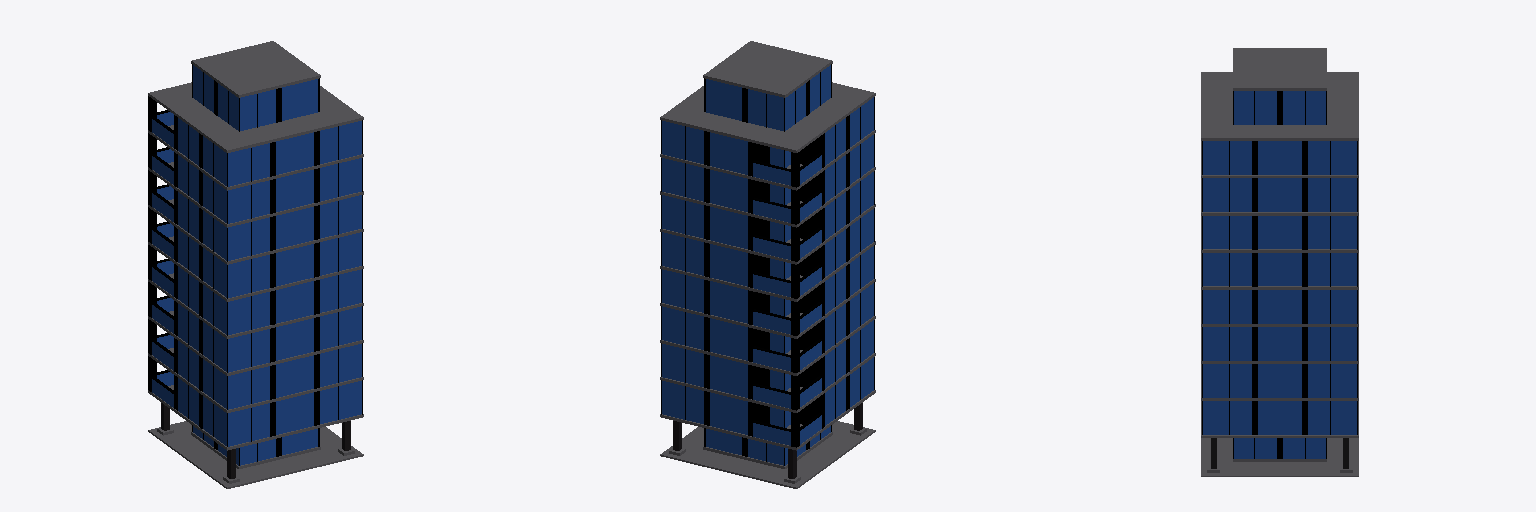
The model's file is Building.obj.
3 views of the same model, side by side, from view 1: azimuth 30°, elevation 25°; view 2: azimuth 150°, elevation 25°; view 3: azimuth 270°, elevation 25° (orthographic).
Visible parts, largest first — view 1: Glass5, Glass6, Glass19, Concrete7, Concrete1, Concrete23, Pillar17, Pillar23, Pillar34, Pillar32, Concrete9, Concrete19 (+6 smaller); view 2: Glass6, Glass5, Glass19, Concrete7, Concrete1, Concrete23, Pillar23, Pillar32, Pillar17, Pillar34, Concrete3, Concrete19 (+15 smaller); view 3: Glass6, Concrete7, Glass19, Concrete1, Concrete23, Pillar32, Pillar34, Concrete9, Concrete4, Concrete8, Concrete2, Concrete3 (+3 smaller).
Boxes of the visible parts, x1,y1,x2,y2 form: Glass5: [178, 118, 269, 446]; Glass6: [276, 121, 361, 434]; Glass19: [193, 65, 317, 465]; Concrete7: [148, 82, 363, 152]; Concrete1: [191, 41, 320, 97]; Concrete23: [148, 421, 363, 488]; Pillar17: [314, 131, 319, 425]; Pillar23: [270, 142, 275, 436]; Pillar34: [199, 133, 202, 428]; Pillar32: [174, 115, 177, 410]; Concrete9: [148, 162, 363, 227]; Concrete19: [148, 385, 363, 450]; Glass6: [662, 121, 747, 434]; Glass5: [825, 97, 873, 425]; Glass19: [706, 65, 830, 465]; Concrete7: [660, 82, 875, 152]; Concrete1: [703, 41, 832, 97]; Concrete23: [660, 421, 875, 488]; Pillar23: [748, 142, 769, 436]; Pillar32: [800, 133, 824, 428]; Pillar17: [704, 131, 709, 425]; Pillar34: [846, 115, 849, 410]; Concrete3: [660, 316, 875, 375]; Concrete19: [660, 390, 875, 450]; Glass6: [1203, 141, 1356, 434]; Concrete7: [1201, 72, 1358, 140]; Glass19: [1234, 91, 1325, 458]; Concrete1: [1233, 48, 1326, 90]; Concrete23: [1201, 438, 1358, 476]; Pillar32: [1302, 141, 1307, 434]; Pillar34: [1252, 141, 1257, 434]; Concrete9: [1201, 178, 1358, 215]; Concrete4: [1201, 253, 1358, 289]; Concrete8: [1201, 216, 1358, 252]; Concrete2: [1201, 141, 1358, 177]; Concrete3: [1201, 327, 1358, 363].
Bounding box in the file's own units: 50 × 132 × 50.